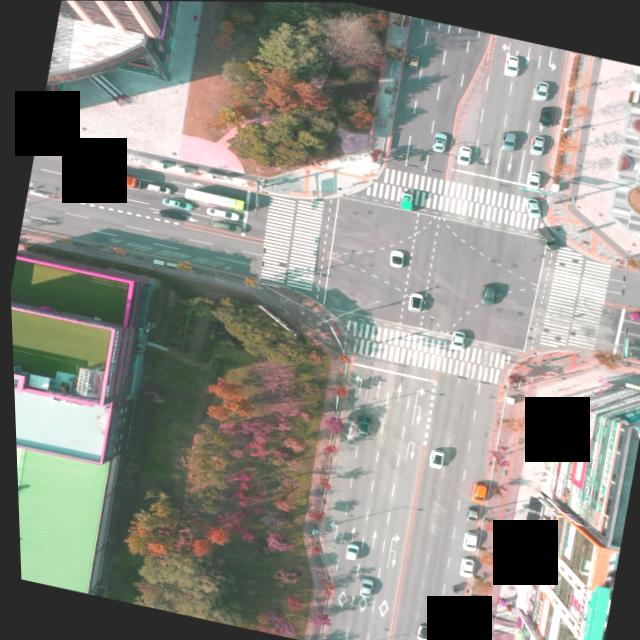car: (529, 223, 556, 245), (209, 218, 246, 233), (520, 195, 542, 218), (474, 279, 495, 302), (465, 479, 486, 502), (402, 289, 423, 311), (203, 206, 236, 220), (349, 411, 367, 436), (159, 196, 191, 210), (157, 207, 186, 221), (502, 54, 521, 75), (454, 141, 473, 162), (424, 445, 443, 466), (453, 555, 472, 576), (536, 103, 555, 124), (351, 574, 369, 595), (456, 527, 474, 548), (441, 603, 459, 624), (447, 328, 465, 349), (429, 128, 446, 150), (499, 128, 516, 149), (528, 133, 545, 154), (523, 169, 541, 188), (409, 622, 427, 640), (385, 247, 402, 266), (533, 79, 549, 99), (460, 502, 476, 521), (340, 541, 355, 558), (625, 308, 640, 324), (146, 182, 170, 192), (437, 627, 455, 640), (405, 53, 419, 67), (637, 323, 640, 334)
large_bus: (65, 162, 141, 192), (179, 186, 247, 213)
small_truck: (395, 188, 412, 208)
